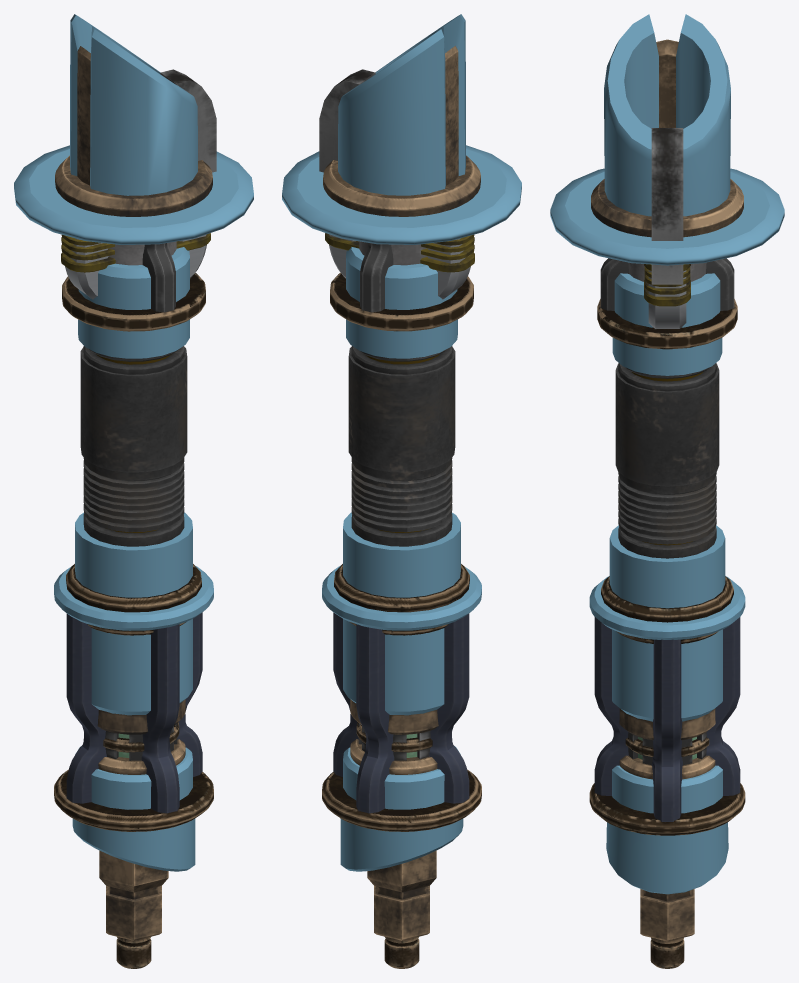
File: jedi_knight.fbx
The picture shows the model from 3 angles, left to right: view 1: azimuth 30°, elevation 25°; view 2: azimuth 150°, elevation 25°; view 3: azimuth 270°, elevation 25°; orthographic projection. The views are drawn at different scales.
Parts seen in each view (by area): view 1: polySurface104; view 2: polySurface104; view 3: polySurface104.
Part boxes in pixels (left/top/right/bottom): polySurface104: left=14, top=14, right=253, bottom=968; polySurface104: left=282, top=14, right=521, bottom=968; polySurface104: left=550, top=14, right=784, bottom=968.
Size of the model in its own units: 6.46 by 28.15 by 6.46.
